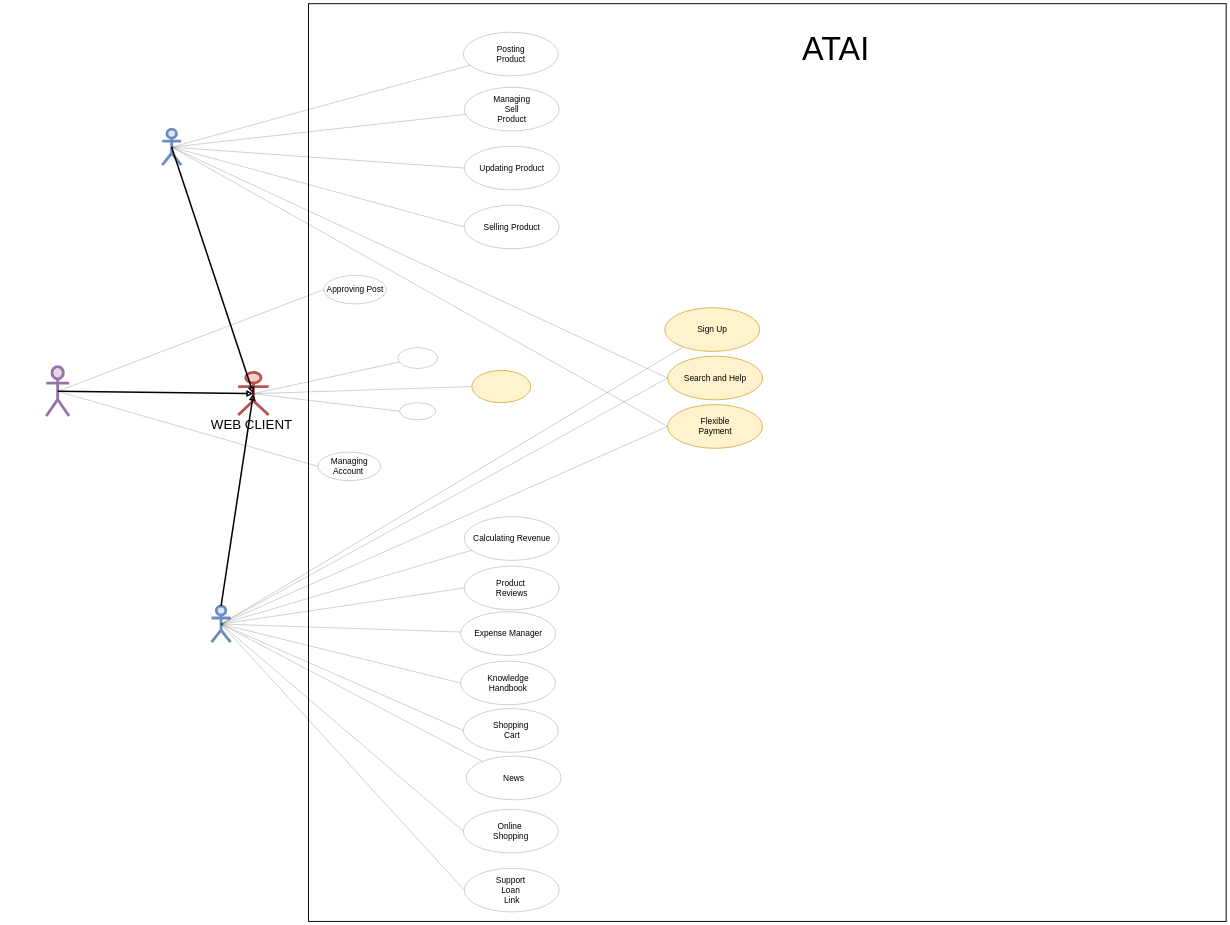
The diagram is 1230 pixels wide and 925 high, and some of its shapes have lost their labels. The shapes that lost their labels are listed below. From the top down, each one's centre as x and y in pixels, then its label:
At point 171,147: "DISTRIBUTOR".
At point 418,358: "Log in".
At point 57,391: "ADMINISTRATOR".
At point 501,386: "Chat Box".
At point 417,411: "Log out".
At point 221,623: "SHOPKEEPER".
